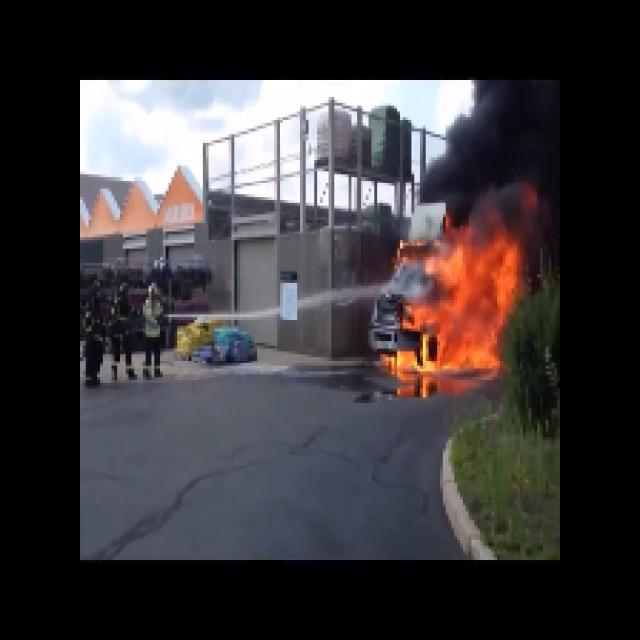Fire: (410, 242, 521, 378)
Smoke: (445, 81, 560, 226)
